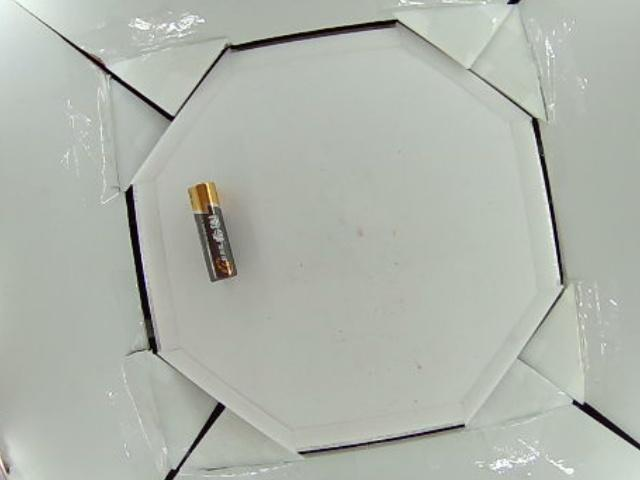Battery: (186, 183, 239, 283)
